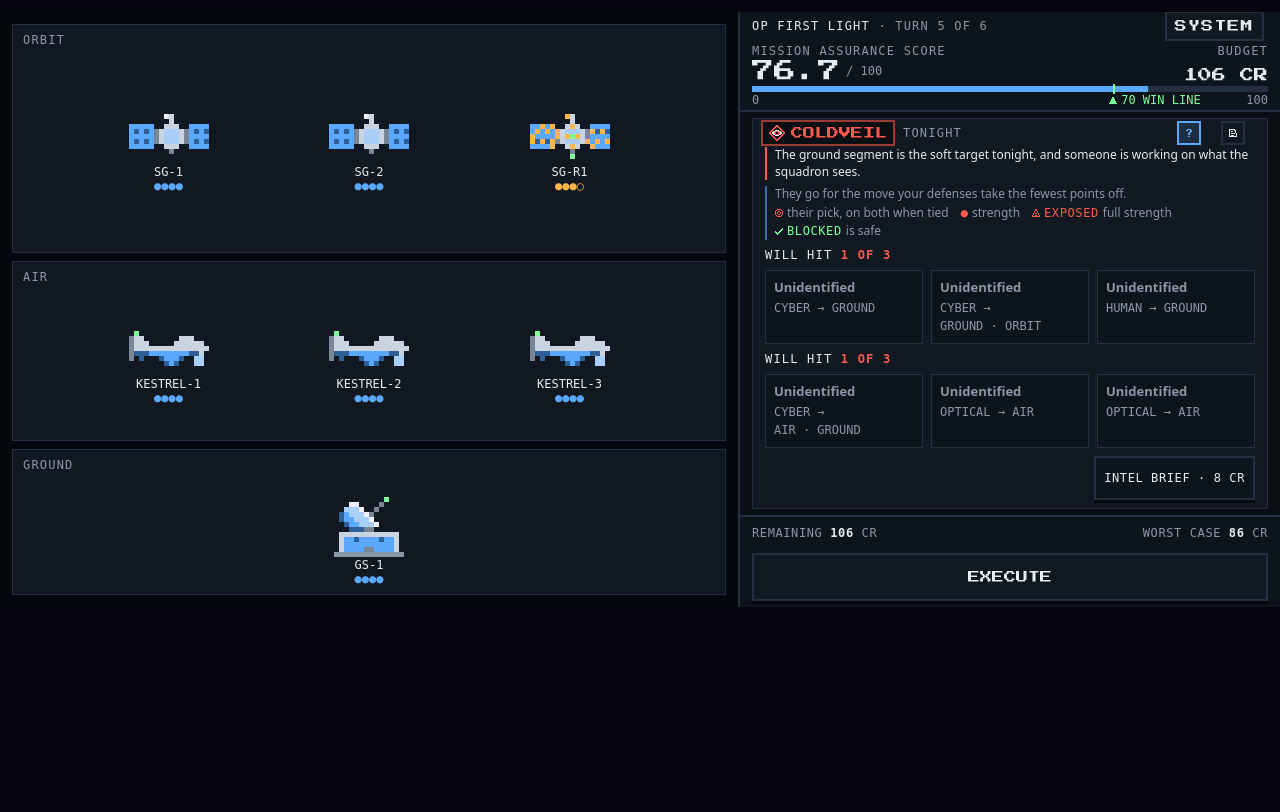
Test case: the hit card (critique row M3) › names the defense that would have finished a partial, on the REDUCED block
The image size is (1280, 812).
Click the button "EXECUTE" at (1010, 577), box [752,553,1268,601]
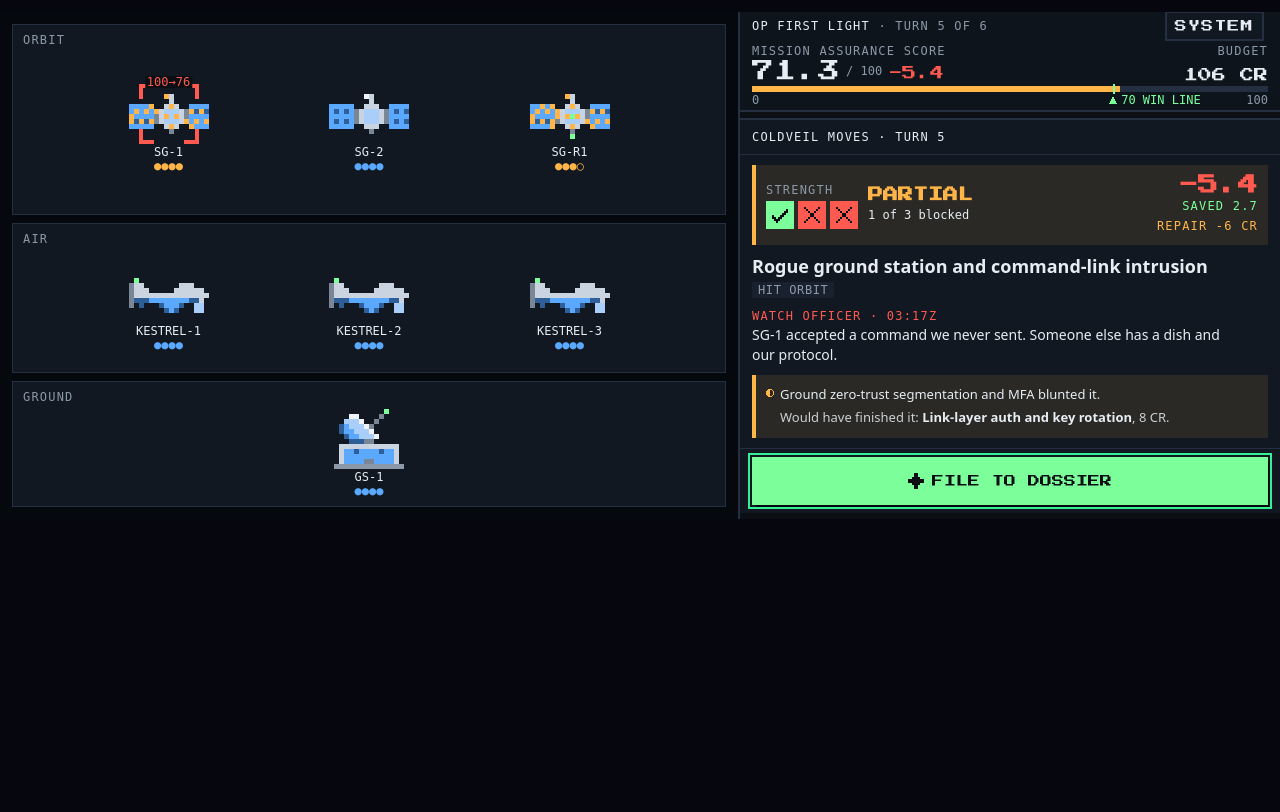
Now the text "PARTIAL" is shown, box [868,187,973,202]
